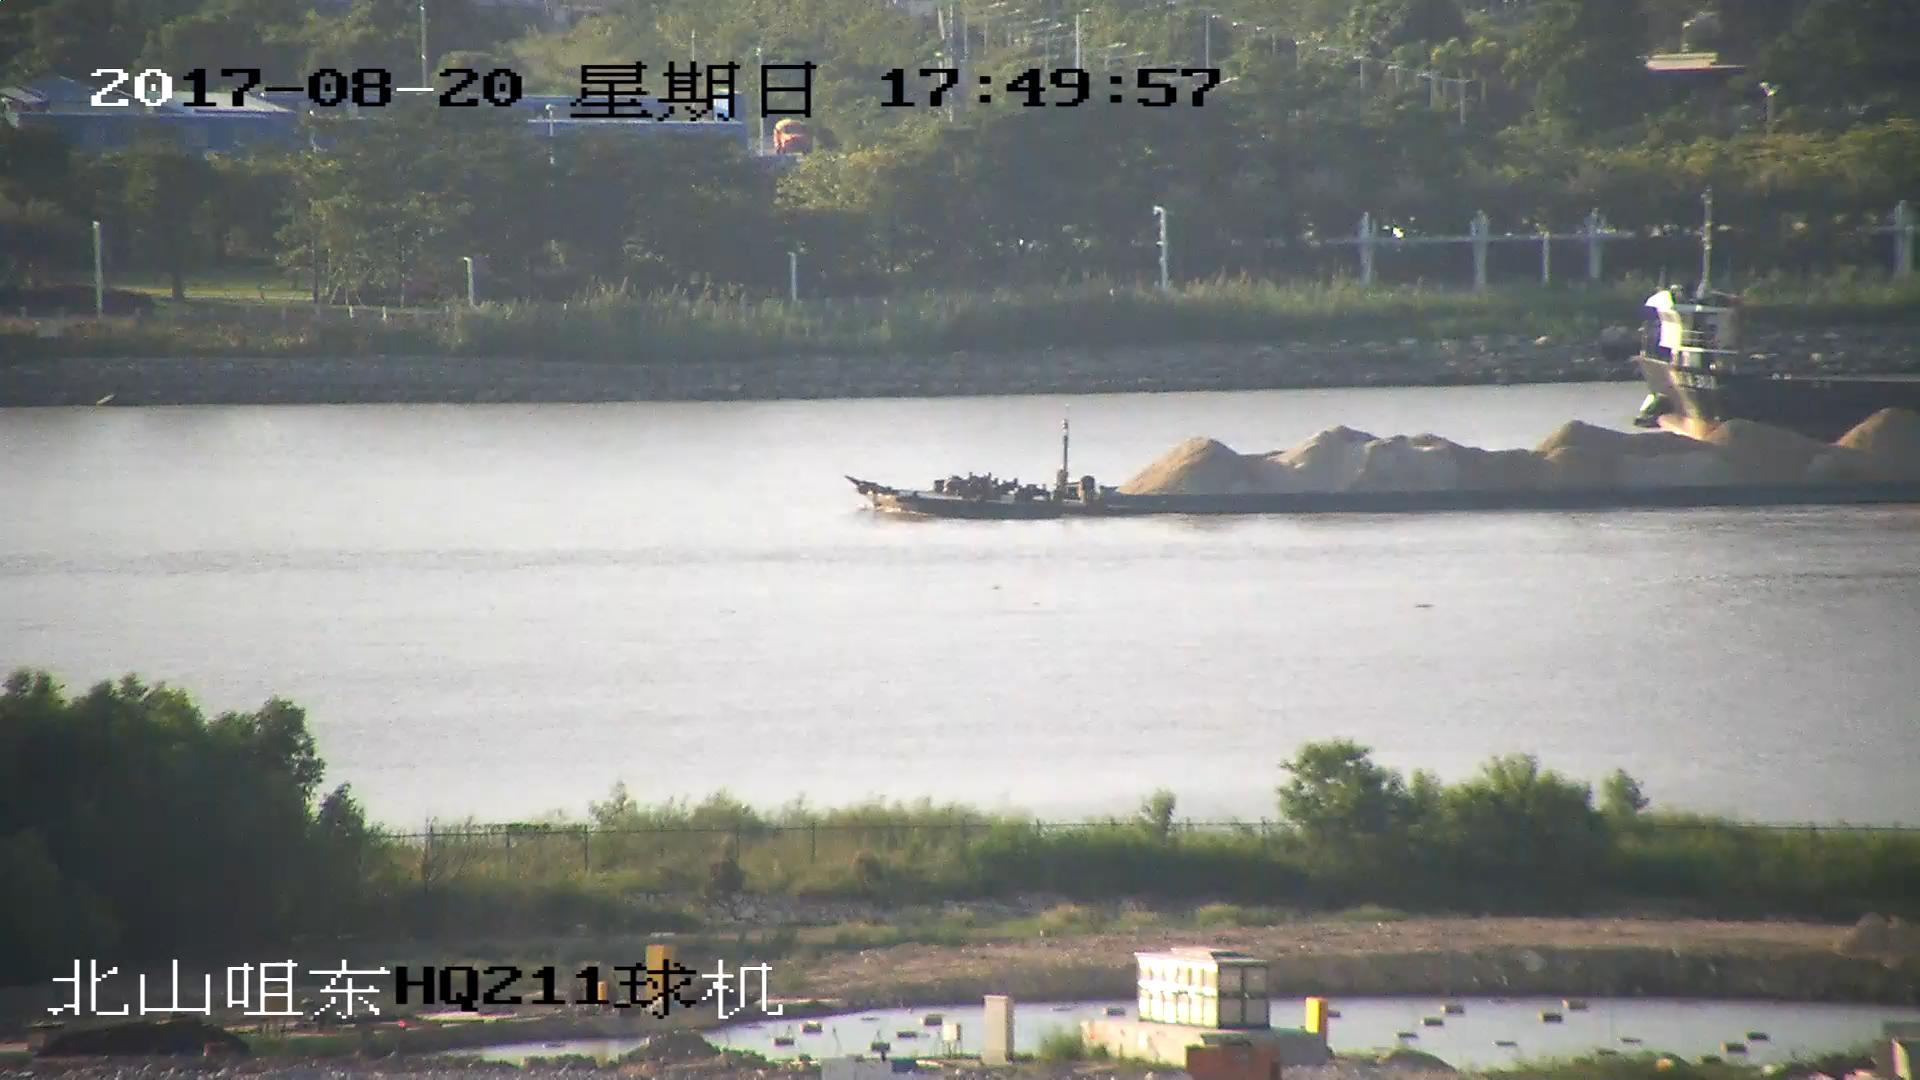Ship: (847, 423, 1920, 520), (1644, 193, 1920, 438)
